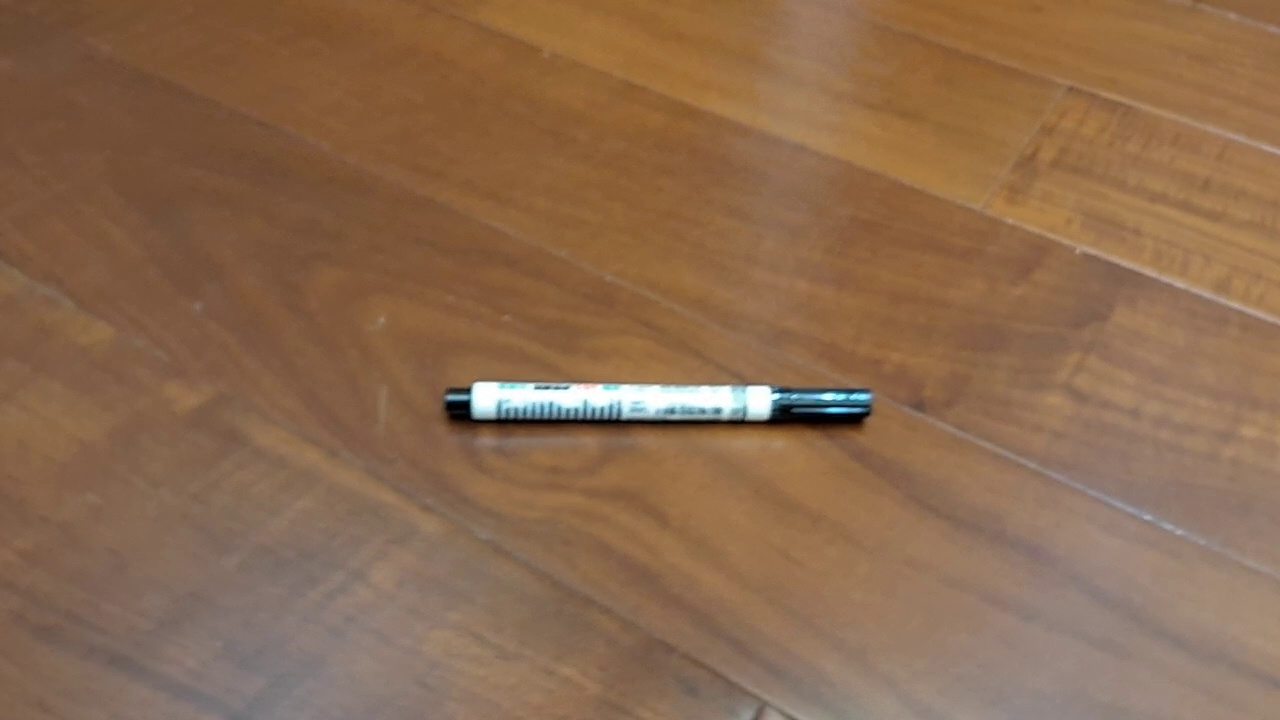pen: (442, 380, 874, 425)
